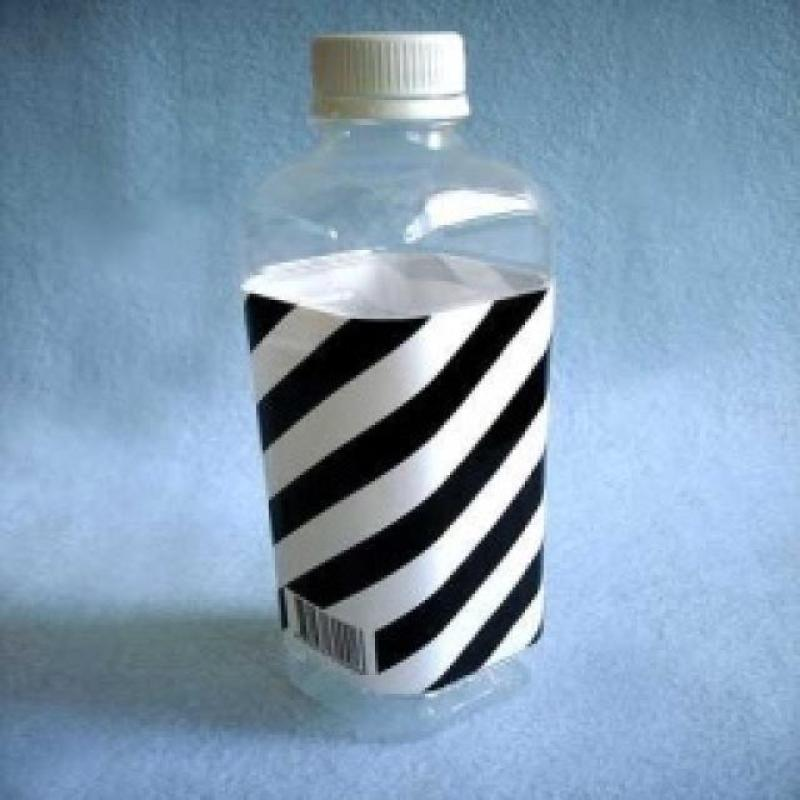botella: (245, 33, 555, 732)
